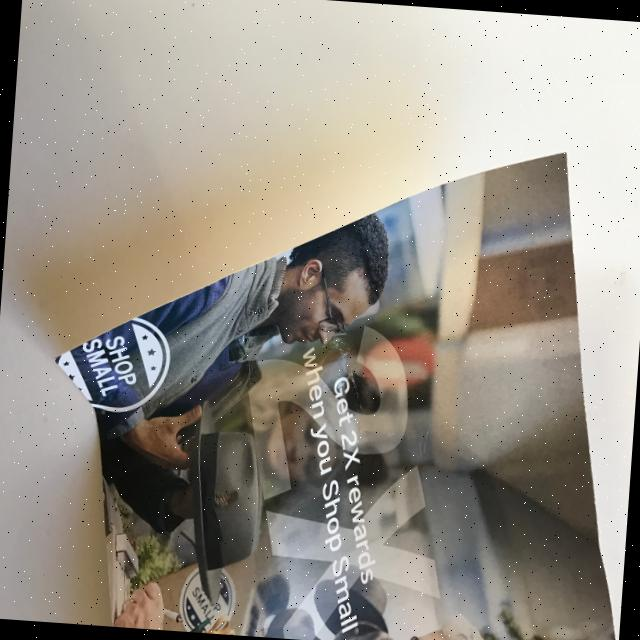paper: (33, 113, 640, 640)
